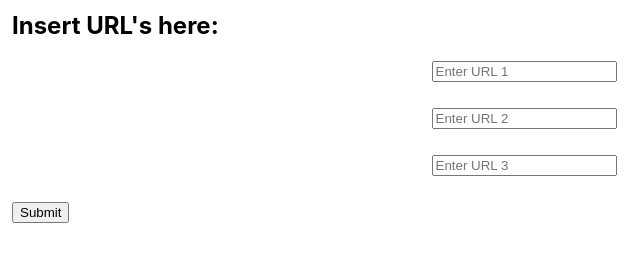
Test: URLForms › displays error message for invalid URLs
The width and height of the screenshot is (634, 278).
Note: Simulate entering an invalid URL and clicking the submit button
Type "invalid-url" into the field with placeholder "Enter URL 1".
click(524, 71); type("invalid-url")  # box [432,61,616,82]
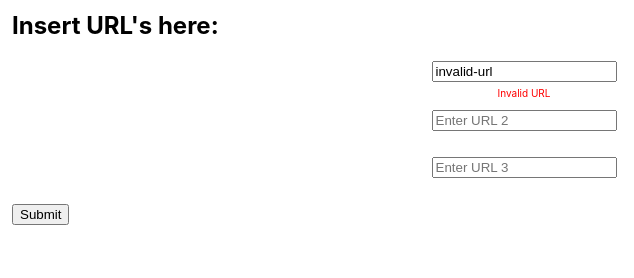
Click the button "Submit".
click(41, 214)  # box [12,204,70,225]
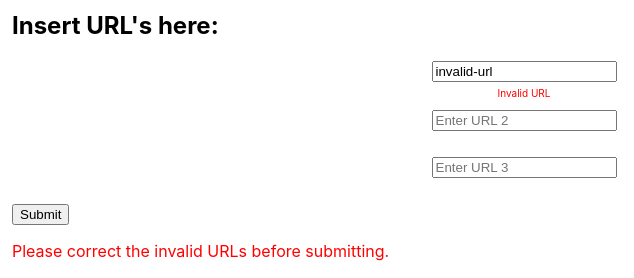
Expected: the text "Invalid URL" is shown, [498,87,550,99]
Expected: the text "Please correct the invalid URLs before submitting." is shown, [12,241,389,261]
